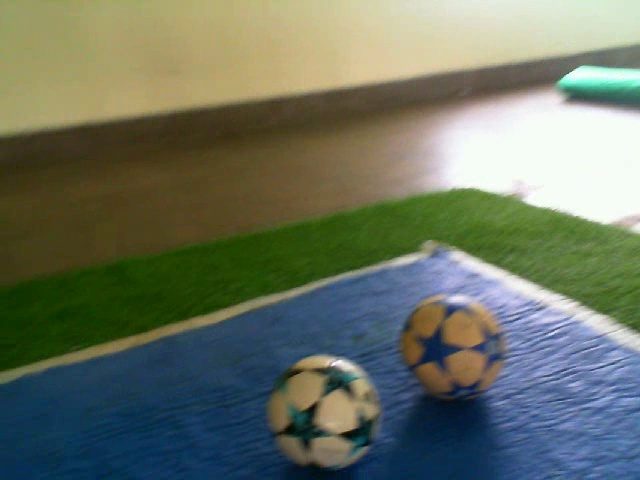ball: (261, 349, 389, 480), (397, 290, 512, 406)
